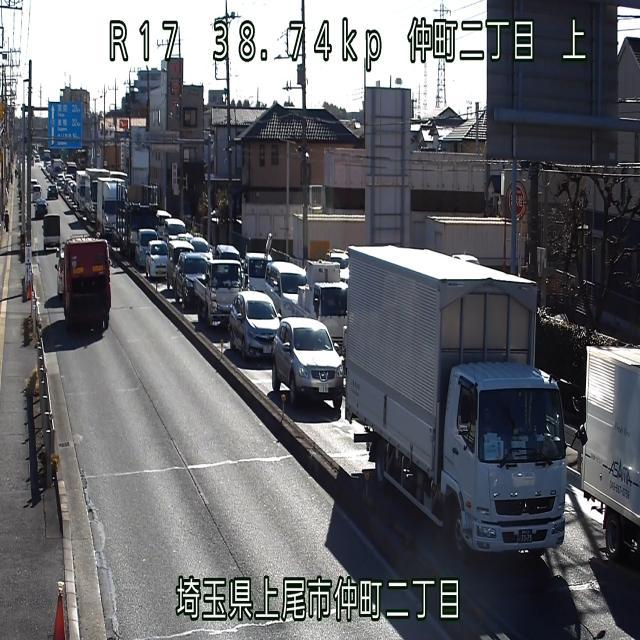16-Wheelers: (341, 243, 569, 558)
Car: (269, 315, 345, 408)
Traffic-sign: (47, 100, 83, 149)
Truck: (576, 343, 639, 562)
